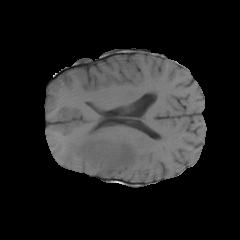glioma: (62, 127, 137, 176)
